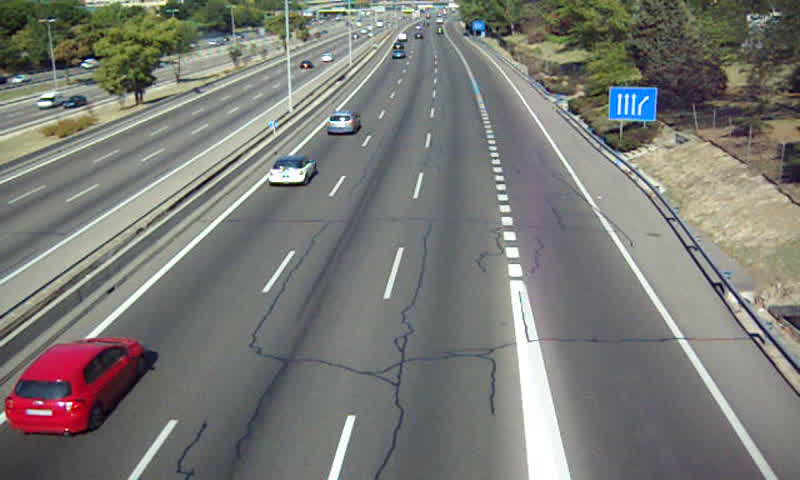car: (6, 336, 149, 435), (268, 156, 316, 186), (326, 111, 360, 132), (392, 49, 407, 61)
